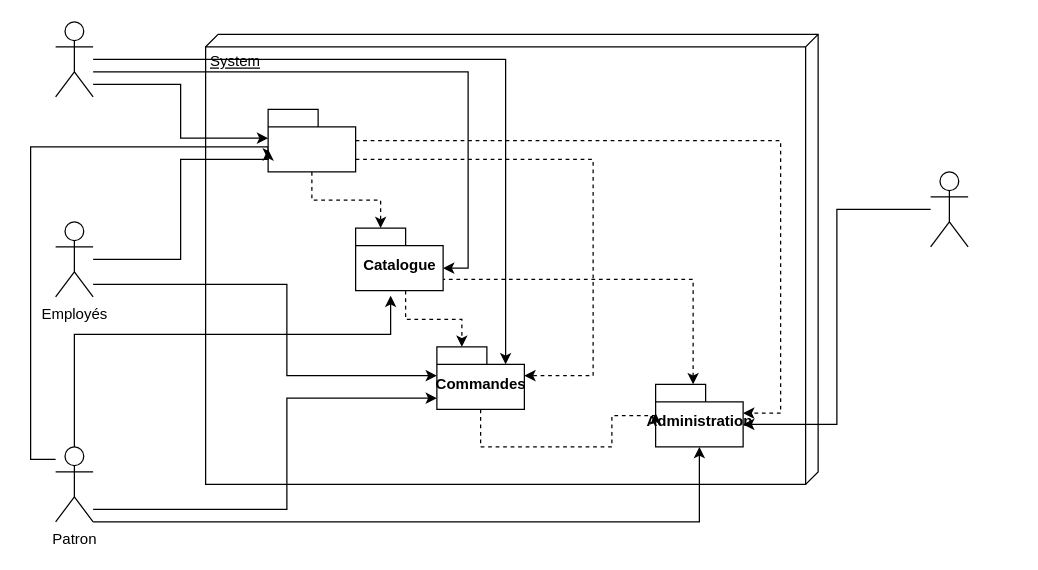
The diagram is 1038 pixels wide and 570 high, and some of its shapes have lost their labels. The centre of each missing label's shape, as x and y in pixels:
<<system>> Pizzerias de France: pixel 948 209
Authentification: pixel 311 140
Clients: pixel 73 59
